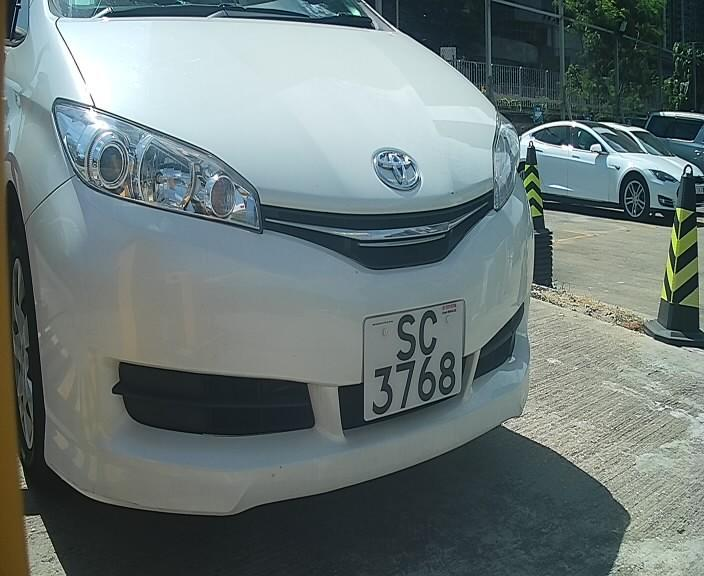privatecar: (29, 31, 544, 523)
